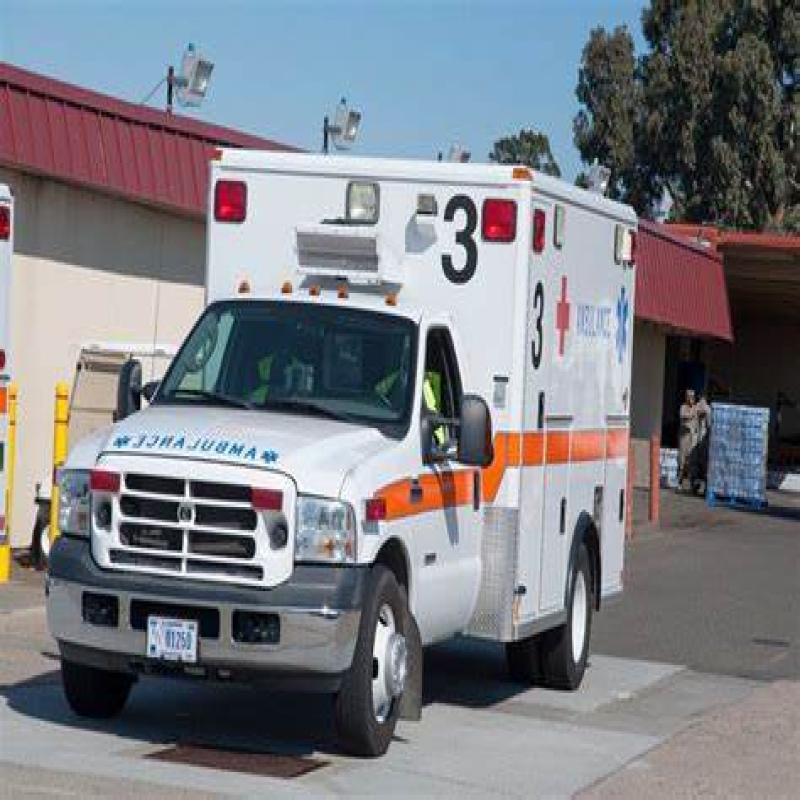AmbulanceSiren: (211, 164, 267, 248), (475, 195, 515, 255)
